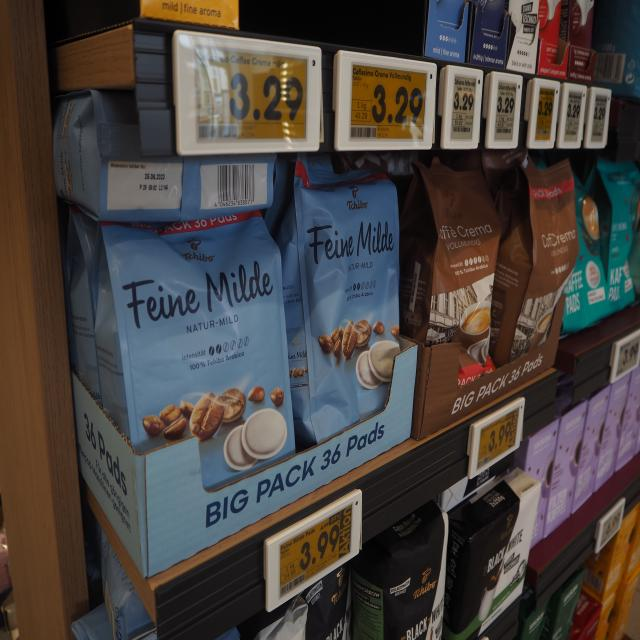BW Gemahlen: (458, 482, 546, 640)
CC Vollmundig: (496, 154, 592, 392), (410, 159, 496, 424)
FM 36 Pads: (100, 205, 306, 573), (281, 152, 407, 480)
